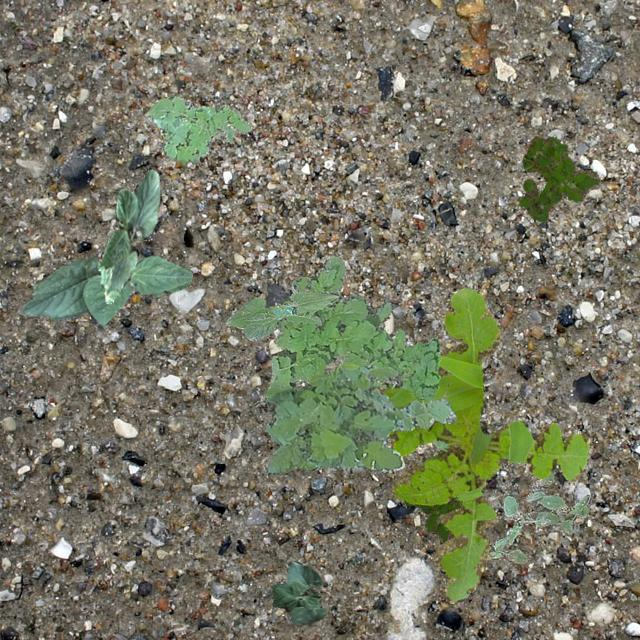crop: (18, 253, 192, 329), (96, 168, 162, 302), (225, 290, 338, 340), (272, 560, 326, 624)
weed: (373, 288, 590, 602), (266, 255, 448, 450), (264, 362, 456, 473), (486, 472, 590, 562), (144, 94, 250, 164), (518, 136, 600, 220), (402, 496, 462, 542)
